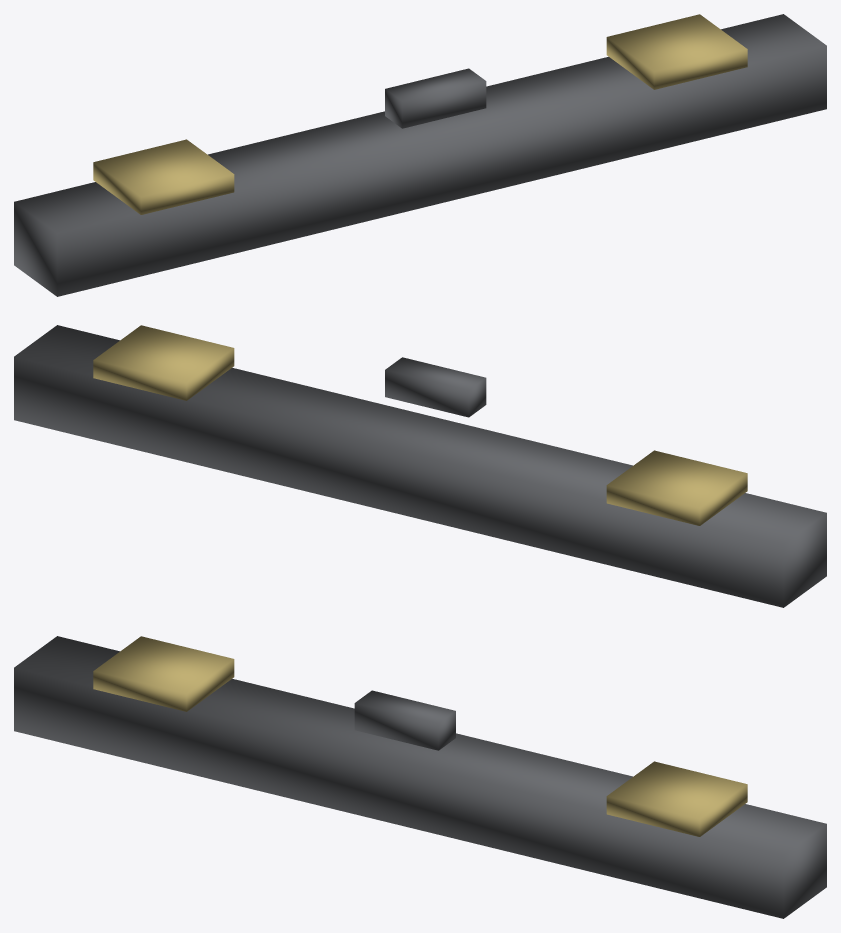
File: wheel_stop_12.glb
The picture shows the model from 3 angles, top to bottom: view 1: azimuth 30°, elevation 25°; view 2: azimuth 150°, elevation 25°; view 3: azimuth 330°, elevation 25°; orthographic projection.
Visible parts, largest first — view 1: world; view 2: world; view 3: world.
Part boxes in pixels (x1,y1,x2,y2): world: (14,14,826,296); world: (14,325,826,607); world: (14,636,826,918).
Bounding box in the file's own units: 1.85 × 0.26 × 0.198.
